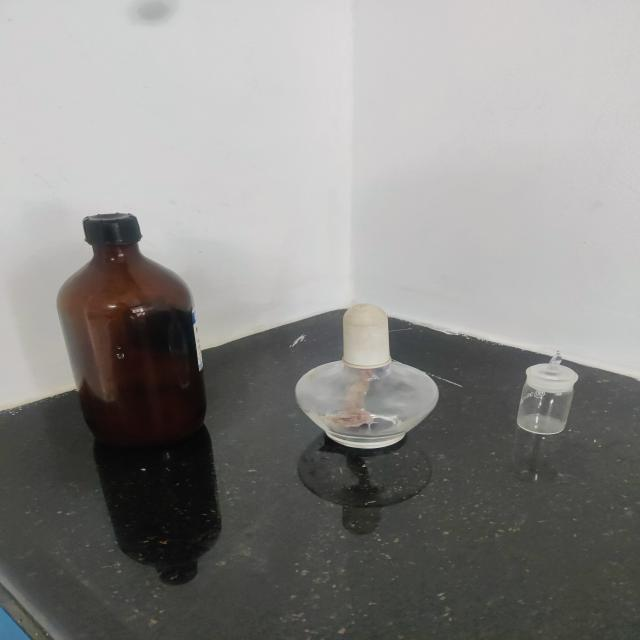Nessler_Reagent_Bottle: (45, 188, 226, 462)
Spirit_Lamp: (278, 283, 456, 467)
Weighing_Bottle: (489, 293, 606, 475)
